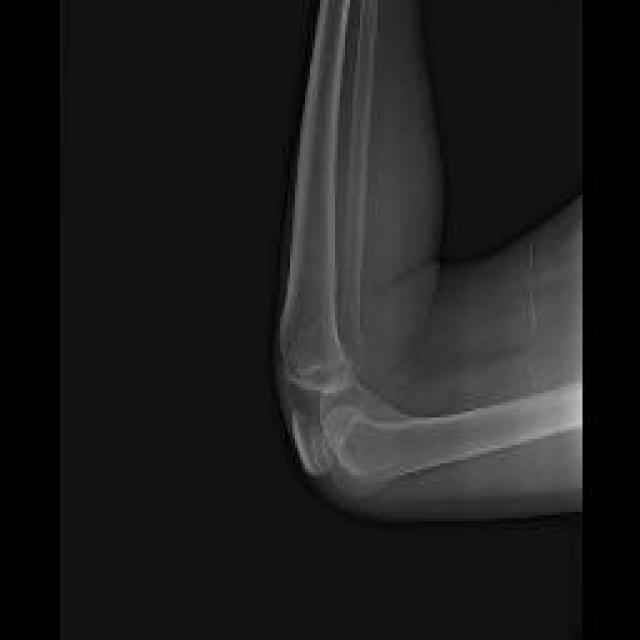normal: (276, 0, 378, 397), (291, 378, 584, 481)
